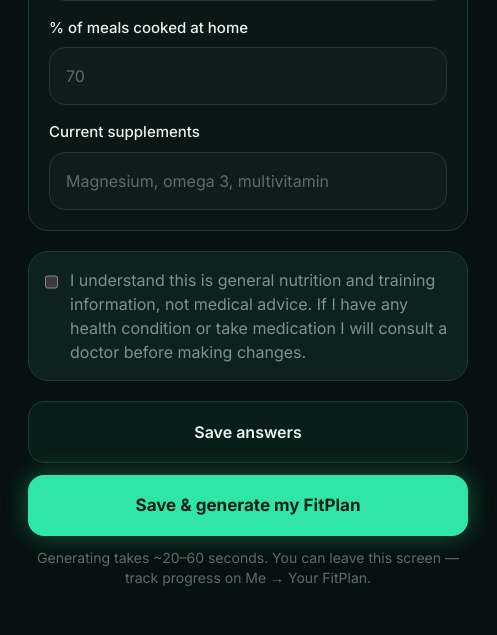
Scenario: saving without generating › reports a failed save instead of failing silently
(page scrolled)
Click the button "Save answers" at (248, 432), box [28,400,468,462]
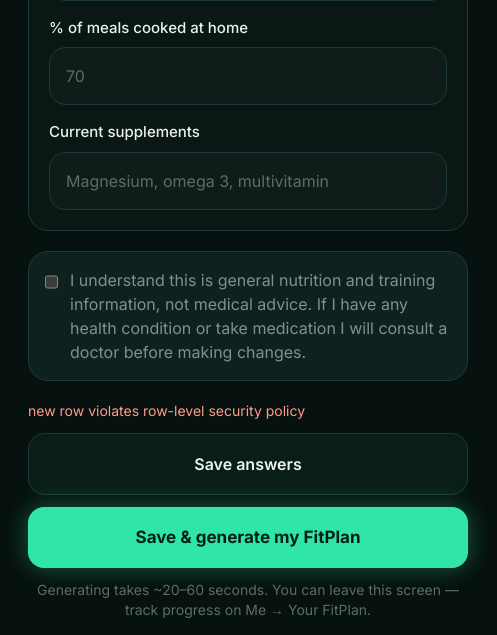
Expected: the text "new row violates row-level security policy" is shown, [28,402,305,418]
